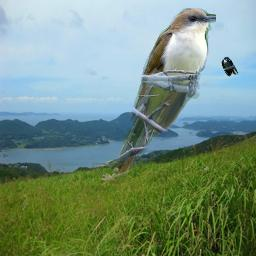Cuckoo: (110, 6, 216, 177)
Swallow: (221, 56, 239, 77)
